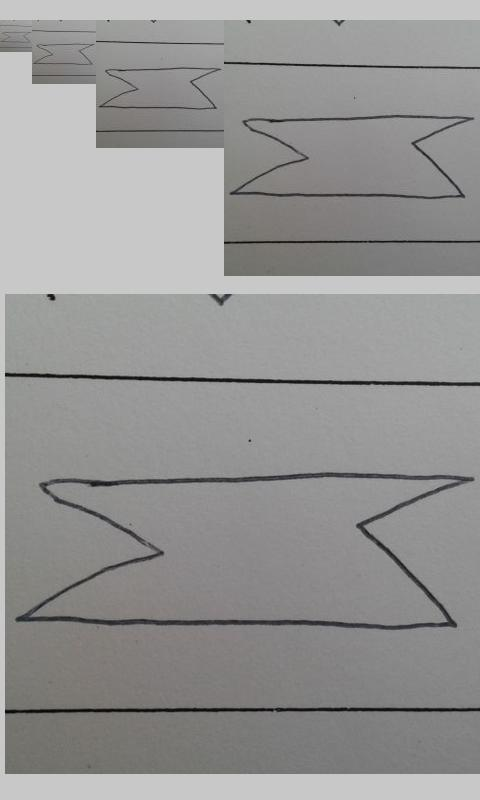edit_text: (18, 470, 469, 633), (231, 114, 473, 201), (100, 67, 220, 110), (33, 43, 93, 66), (2, 31, 31, 43)
